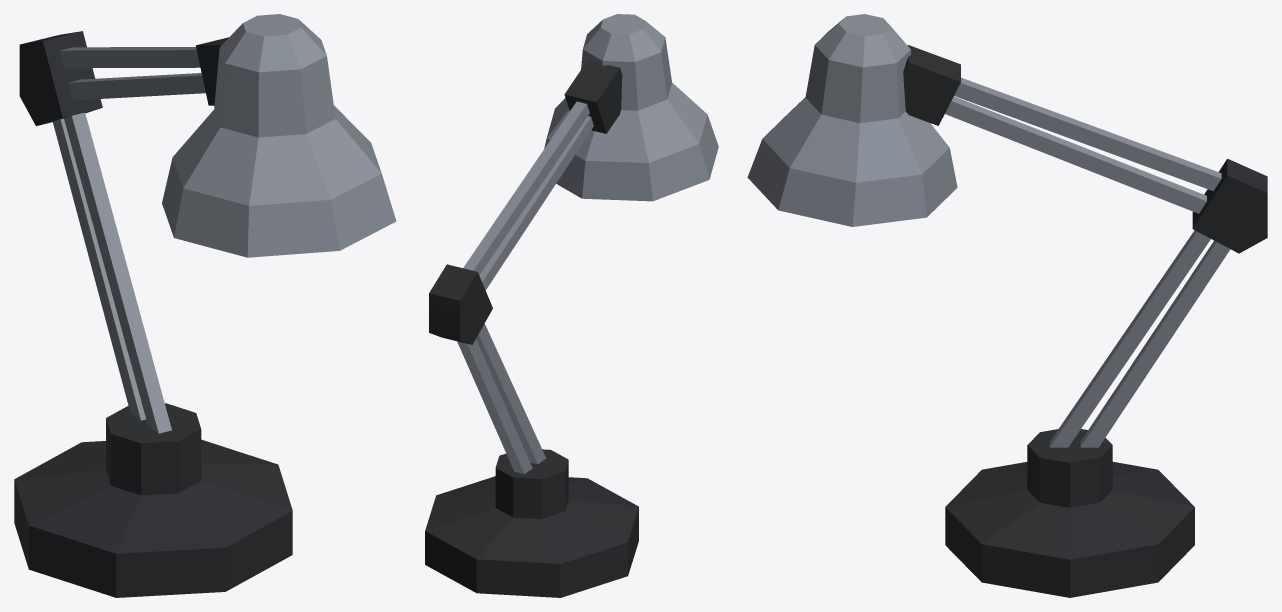
Rendered from SM_Prop_Lamp_02.fbx.
3 views of the same model, side by side, from view 1: azimuth 30°, elevation 25°; view 2: azimuth 150°, elevation 25°; view 3: azimuth 270°, elevation 25° (orthographic). The views are drawn at different scales.
Visible parts, largest first — view 1: SM_Prop_Lamp_02; view 2: SM_Prop_Lamp_02; view 3: SM_Prop_Lamp_02.
Boxes of the visible parts, bbox=[...] form: SM_Prop_Lamp_02: bbox=[14, 14, 396, 597]; SM_Prop_Lamp_02: bbox=[425, 14, 718, 597]; SM_Prop_Lamp_02: bbox=[747, 14, 1267, 597].
Size of the model in its own units: 29.35 by 67.67 by 61.17.
